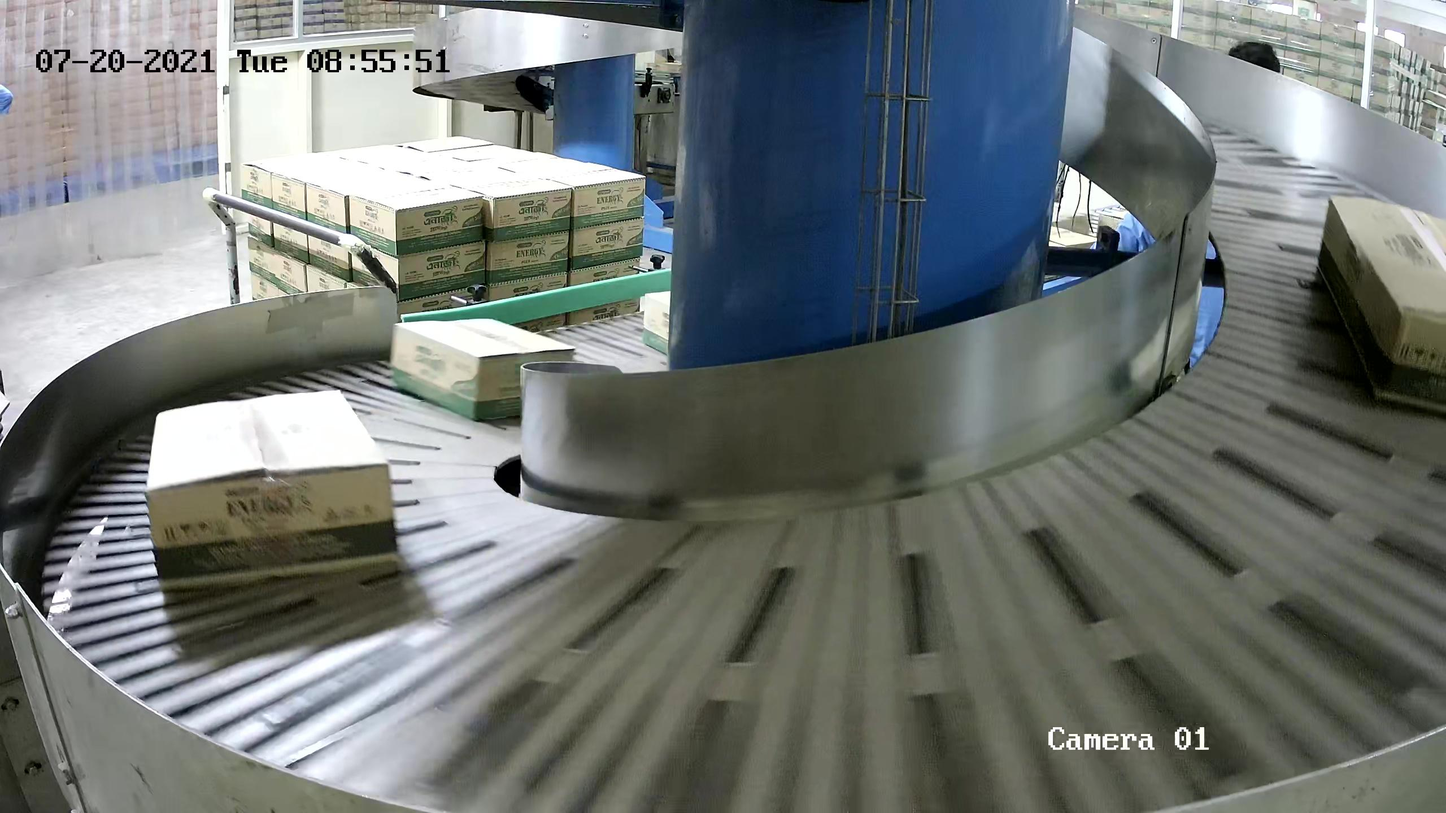Box: (143, 386, 402, 593), (1314, 191, 1446, 416), (388, 315, 577, 423), (641, 290, 673, 356)
